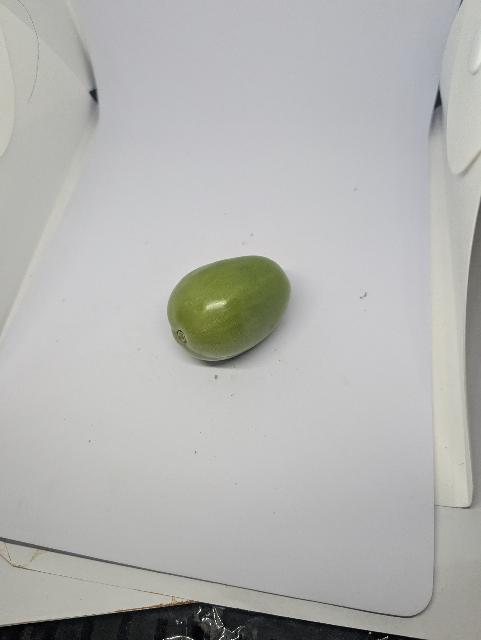green: (155, 240, 324, 383)
